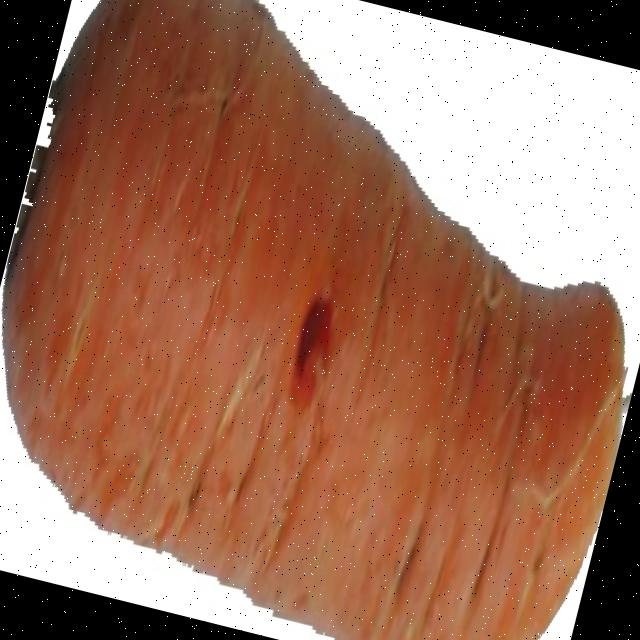carrot: (1, 0, 624, 640)
